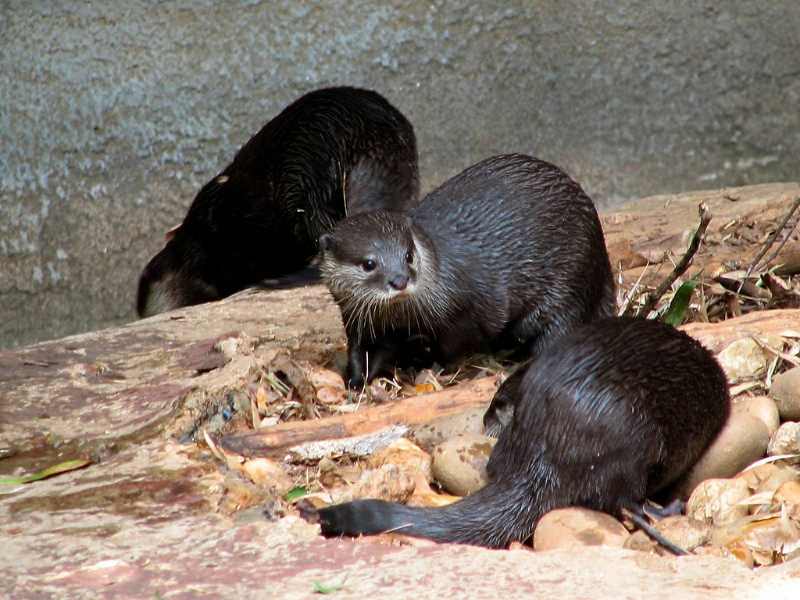minkish: (292, 317, 733, 560), (314, 150, 622, 391), (129, 83, 417, 320)
